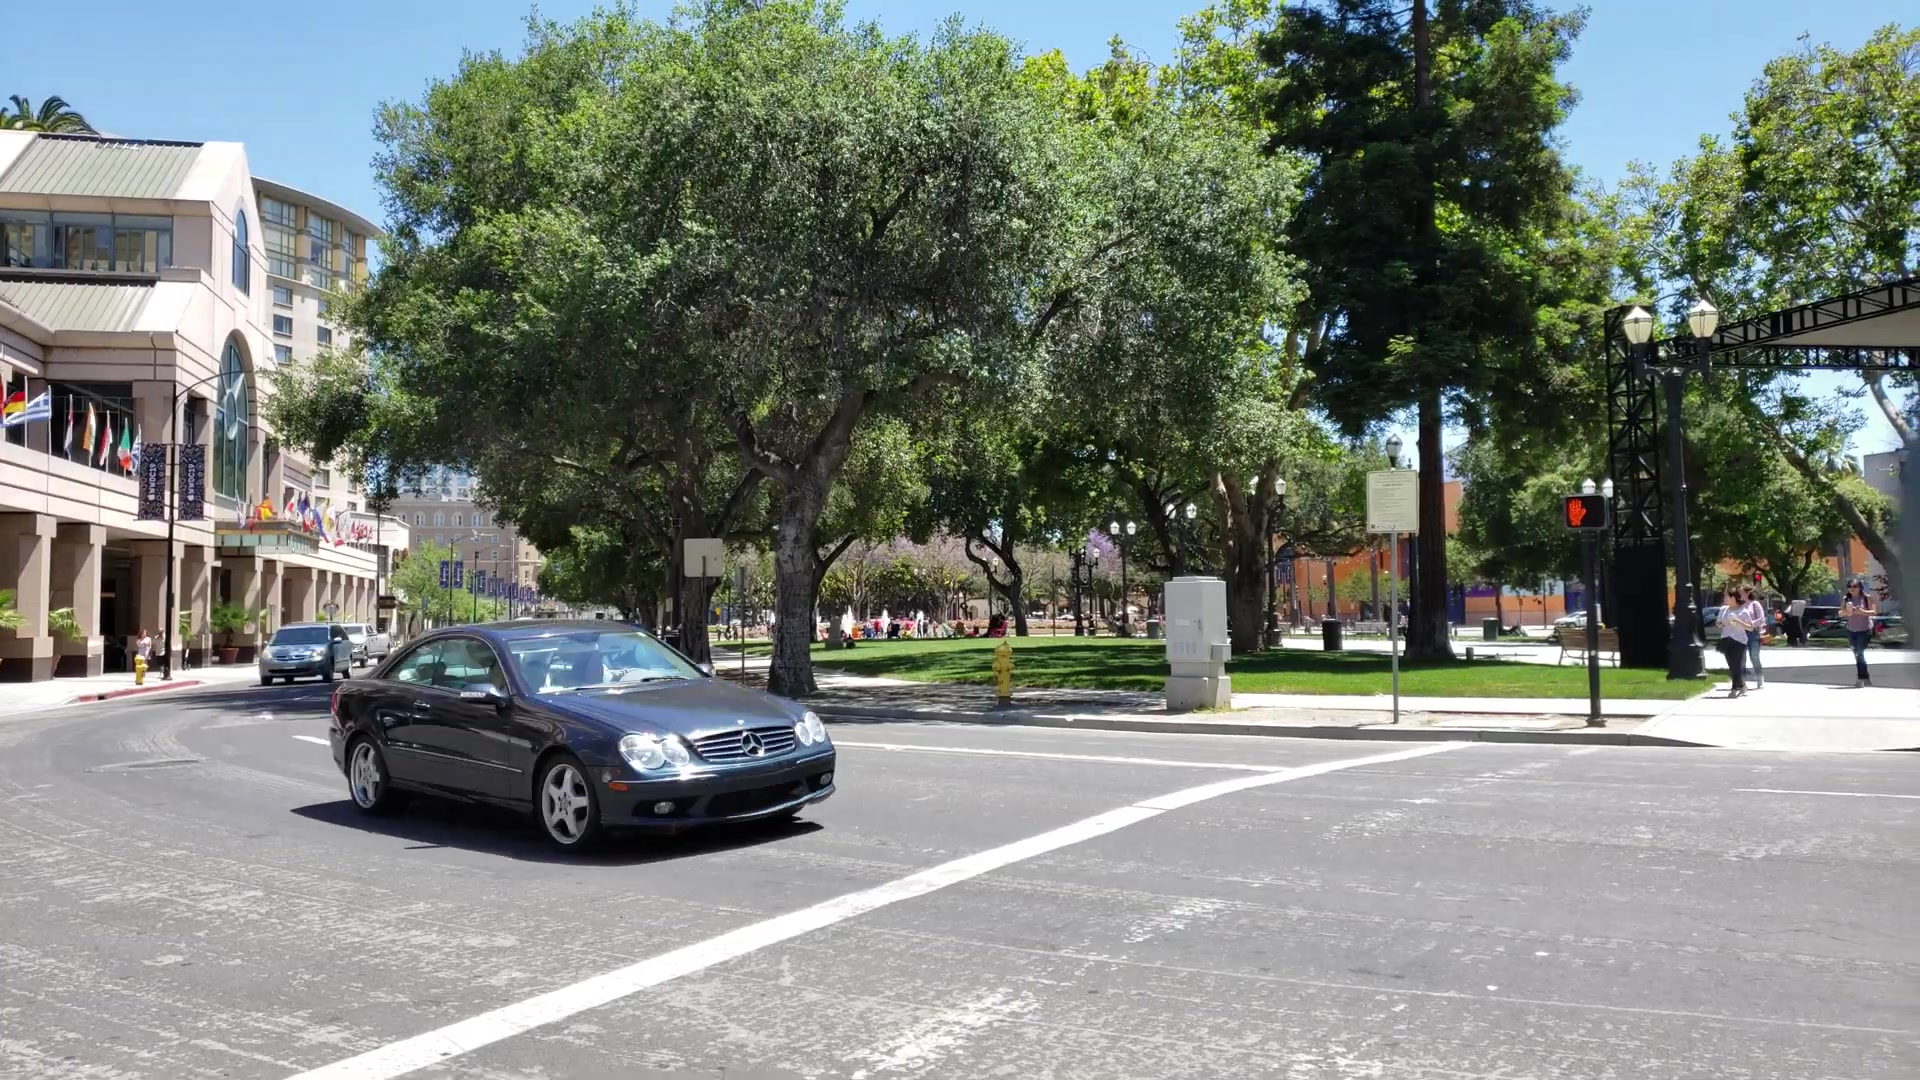vehicle: (328, 616, 843, 845), (262, 625, 351, 684)
